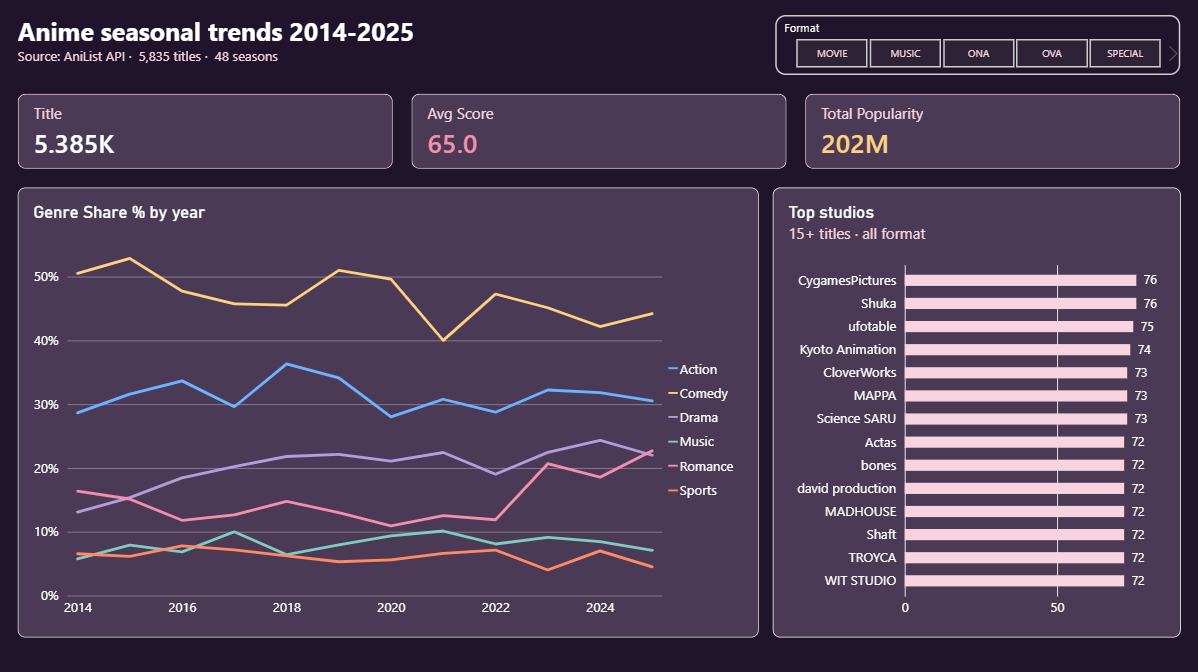

The dashboard page shown, as its layout file describes it:
{"tool":"powerbi","page":{"name":"Trends","canvas":[1280,720],"ordinal":0},"visuals":[{"type":"textbox","box":[20,15,440,72],"z":0},{"type":"slicer","fields":{"Values":["Formats.format"]},"box":[828,16,432,64],"z":1000},{"type":"cardVisual","fields":{"Data":["gold_season_summary.Title"]},"box":[20,100,400,80],"z":2000},{"type":"cardVisual","fields":{"Data":["gold_season_summary.Avg Score"]},"box":[440,100,400,80],"z":3000},{"type":"cardVisual","fields":{"Data":["gold_season_summary.Total Popularity"]},"box":[860,100,400,80],"z":4000},{"type":"lineChart","title":"Genre Share % by year","fields":{"Category":["gold_genre_year.season_year"],"Series":["gold_genre_year.genre"],"Y":["gold_genre_year.Genre Share %"]},"box":[20,200,790,480],"z":5000},{"type":"clusteredBarChart","title":"Top studios","fields":{"Category":["gold_studio.studio"],"Y":["Sum(gold_studio.avg_score)"]},"box":[825,200,435,480],"z":6000}]}

Visuals, with their boxes in screenshot pixels (x1, y1, x2, y2), scaled from the page's 1280x720 canvas onto the 1198x672 screenshot:
textbox: [x1=19, y1=14, x2=431, y2=81]
slicer - Formats.format: [x1=775, y1=15, x2=1179, y2=75]
cardVisual - gold_season_summary.Title: [x1=19, y1=93, x2=393, y2=168]
cardVisual - gold_season_summary.Avg Score: [x1=412, y1=93, x2=786, y2=168]
cardVisual - gold_season_summary.Total Popularity: [x1=805, y1=93, x2=1179, y2=168]
"Genre Share % by year" lineChart: [x1=19, y1=187, x2=758, y2=635]
"Top studios" clusteredBarChart: [x1=772, y1=187, x2=1179, y2=635]
